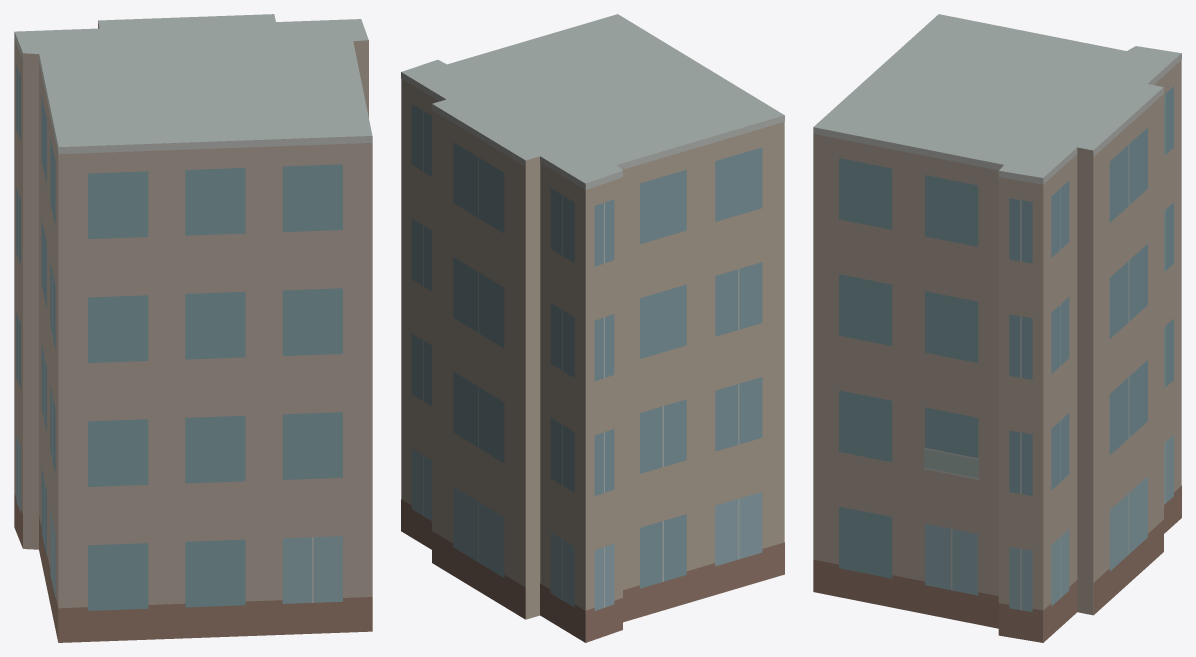
Rendered from survey-upis-32949596.glb.
The picture shows the model from 3 angles, left to right: view 1: azimuth 30°, elevation 25°; view 2: azimuth 150°, elevation 25°; view 3: azimuth 270°, elevation 25°; orthographic projection. The views are drawn at different scales.
Parts seen in each view (by area): view 1: survey-upis-32949596.tmp; view 2: survey-upis-32949596.tmp; view 3: survey-upis-32949596.tmp.
Part boxes in pixels (x1,y1,x2,y2): survey-upis-32949596.tmp: (14,14,372,642); survey-upis-32949596.tmp: (401,14,784,642); survey-upis-32949596.tmp: (813,14,1181,642).
Size of the model in its own units: 13.07 by 17.25 by 12.4.
